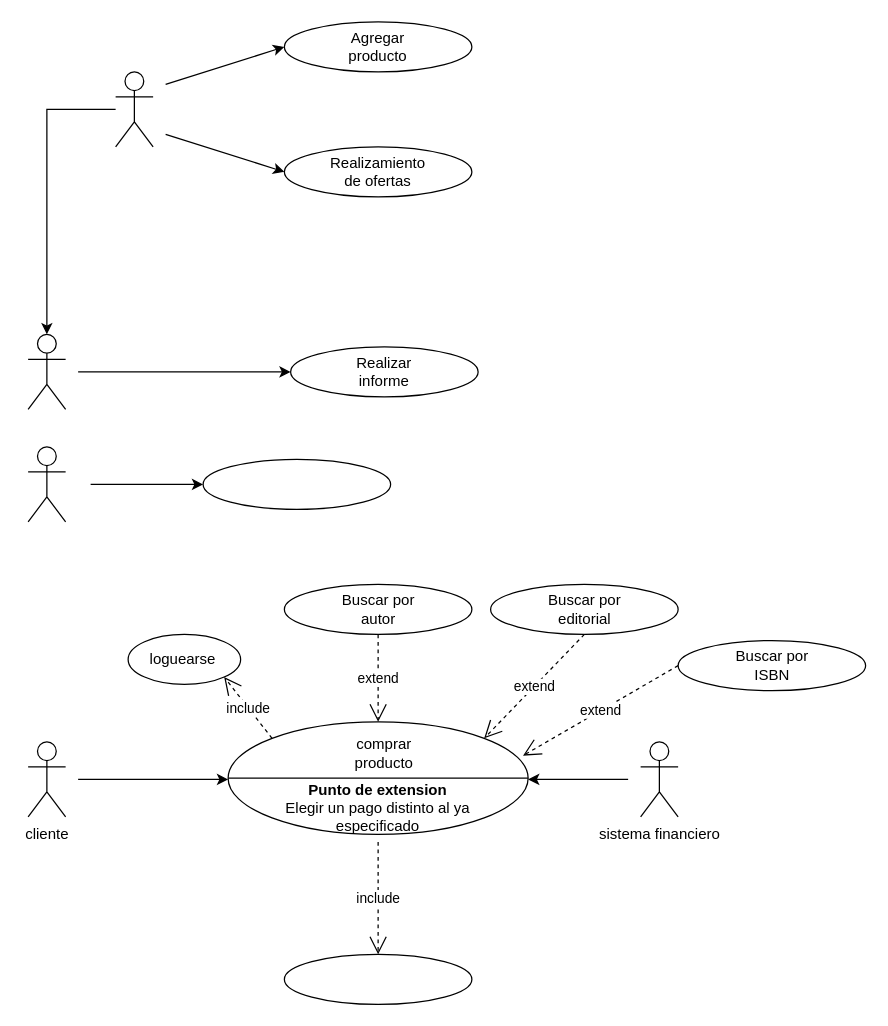
Image size: 888x1026. Some labels were removed from this diagram. The shapes that lost their labels are listed below. From the top down, each one's centre as x and y in pixels, then its label:
At pixel 133 109: "administrador".
At pixel 46 371: "gerente".
At pixel 46 484: "tiempo".
At pixel 296 483: "Enviar ofertas por mail".
At pixel 377 978: "Pagar con tipo de pago diferente".
